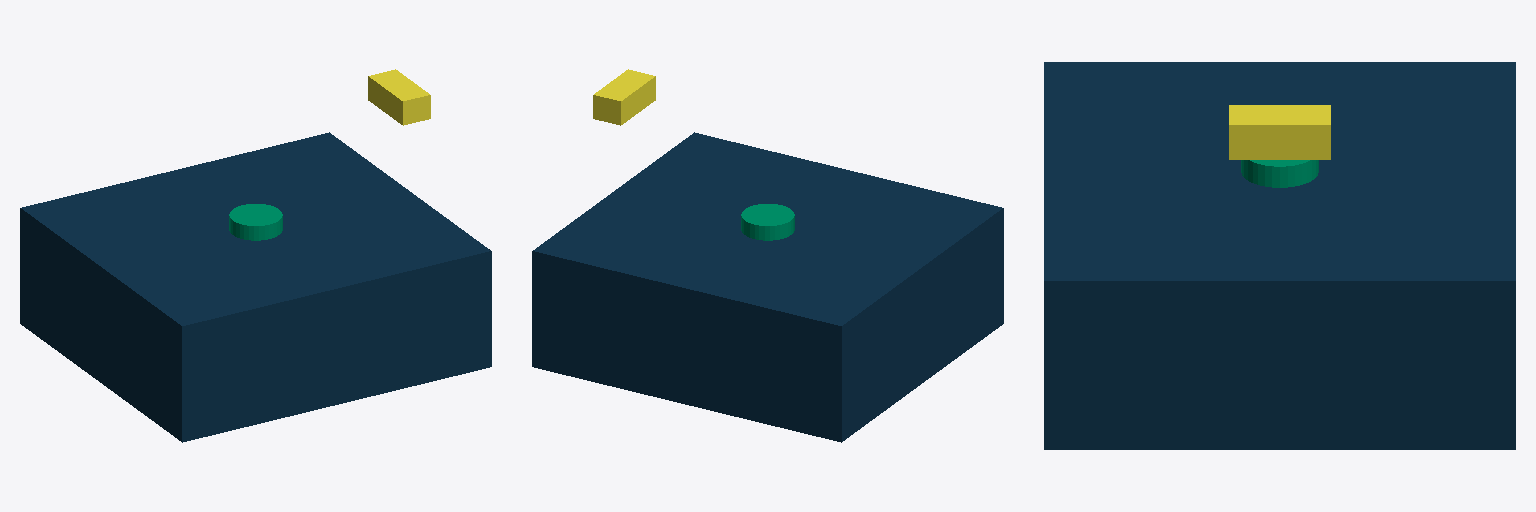
The robot description file, URDF, robot "semifinal_bot":
<?xml version="1.0"?>
<robot name="semifinal_bot">
  <!-- 平面运动仿真，不模拟麦轮接触动力学。 -->
  <link name="base_footprint"/>
  <link name="base_link">
    <inertial><mass value="5.2"/><inertia ixx=".045" ixy="0" ixz="0" iyy=".05" iyz="0" izz=".088"/></inertial>
    <visual><geometry><box size=".334 .303 .12"/></geometry><material name="body"><color rgba=".1 .25 .35 1"/></material></visual>
    <collision><geometry><box size=".334 .303 .12"/></geometry></collision>
  </link>
  <joint name="base_joint" type="fixed"><parent link="base_footprint"/><child link="base_link"/><origin xyz="0 0 .06"/></joint>
  <link name="laser_link"><inertial><mass value=".05"/><inertia ixx=".0001" ixy="0" ixz="0" iyy=".0001" iyz="0" izz=".0001"/></inertial>
    <visual><geometry><cylinder radius=".025" length=".02"/></geometry></visual></link>
  <joint name="laser_joint" type="fixed"><parent link="base_link"/><child link="laser_link"/><origin xyz="0 0 .065"/></joint>
  <link name="camera_link"><inertial><mass value=".05"/><inertia ixx=".0001" ixy="0" ixz="0" iyy=".0001" iyz="0" izz=".0001"/></inertial>
    <visual><geometry><box size=".03 .065 .025"/></geometry></visual></link>
  <joint name="camera_joint" type="fixed"><parent link="base_link"/><child link="camera_link"/><origin xyz=".155 0 .16"/></joint>
  <link name="camera_rgb_optical_frame"/>
  <joint name="camera_optical_joint" type="fixed"><parent link="camera_link"/><child link="camera_rgb_optical_frame"/><origin rpy="-1.570796 0 -1.570796"/></joint>
  <gazebo reference="base_link"><material>Gazebo/Blue</material><mu1>0</mu1><mu2>0</mu2></gazebo>
  <gazebo reference="laser_link"><sensor type="ray" name="lidar">
    <update_rate>10</update_rate><ray><scan><horizontal><samples>720</samples><resolution>1</resolution><min_angle>-3.141593</min_angle><max_angle>3.141593</max_angle></horizontal></scan>
    <range><min>.12</min><max>10</max><resolution>.005</resolution></range><noise><type>gaussian</type><mean>0</mean><stddev>.005</stddev></noise></ray>
    <plugin name="laser" filename="libgazebo_ros_laser.so"><topicName>/scan</topicName><frameName>laser_link</frameName></plugin>
  </sensor></gazebo>
  <gazebo reference="camera_link"><sensor type="camera" name="rgb_camera">
    <update_rate>15</update_rate><camera><horizontal_fov>1.047198</horizontal_fov><image><width>1280</width><height>960</height><format>R8G8B8</format></image><clip><near>.05</near><far>8</far></clip></camera>
    <plugin name="rgb_camera" filename="libgazebo_ros_camera.so"><cameraName>camera</cameraName><alwaysOn>true</alwaysOn><updateRate>15</updateRate><imageTopicName>color/image_raw</imageTopicName><cameraInfoTopicName>color/camera_info</cameraInfoTopicName><frameName>camera_rgb_optical_frame</frameName></plugin>
  </sensor></gazebo>
  <gazebo><plugin name="planar_drive" filename="libgazebo_ros_planar_move.so"><commandTopic>cmd_vel</commandTopic><odometryTopic>odom</odometryTopic><odometryFrame>odom</odometryFrame><robotBaseFrame>base_footprint</robotBaseFrame><odometryRate>30</odometryRate></plugin></gazebo>
</robot>

--- Render facts (derived) ---
3 views of the same robot in one strip: view 1: azimuth 30°, elevation 25°; view 2: azimuth 150°, elevation 25°; view 3: azimuth 270°, elevation 25° (orthographic).
Model semifinal_bot with 5 links and 4 joints (4 fixed), rooted at base_footprint, posed every joint at zero.
Links seen in each view (by area): view 1: base_link, camera_link, laser_link; view 2: base_link, camera_link, laser_link; view 3: base_link, camera_link, laser_link.
Boxes of the visible links, bbox=[...] form: base_link: bbox=[20, 132, 491, 442]; camera_link: bbox=[368, 69, 430, 125]; laser_link: bbox=[229, 204, 282, 240]; base_link: bbox=[532, 132, 1003, 442]; camera_link: bbox=[593, 69, 655, 125]; laser_link: bbox=[741, 204, 794, 240]; base_link: bbox=[1044, 62, 1515, 449]; camera_link: bbox=[1229, 105, 1330, 159]; laser_link: bbox=[1241, 160, 1318, 187].
Bounding box of the posed robot: 0.337 × 0.303 × 0.2325 m (x, y, z).
Geometry: primitives only (box / cylinder / sphere), no mesh files.
